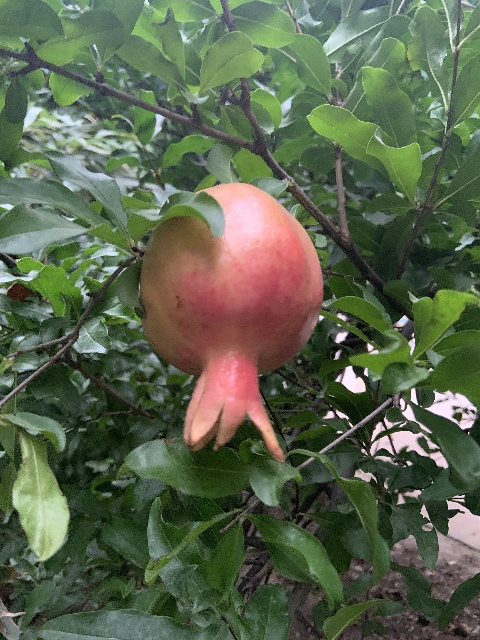ripe: (138, 182, 322, 460)
